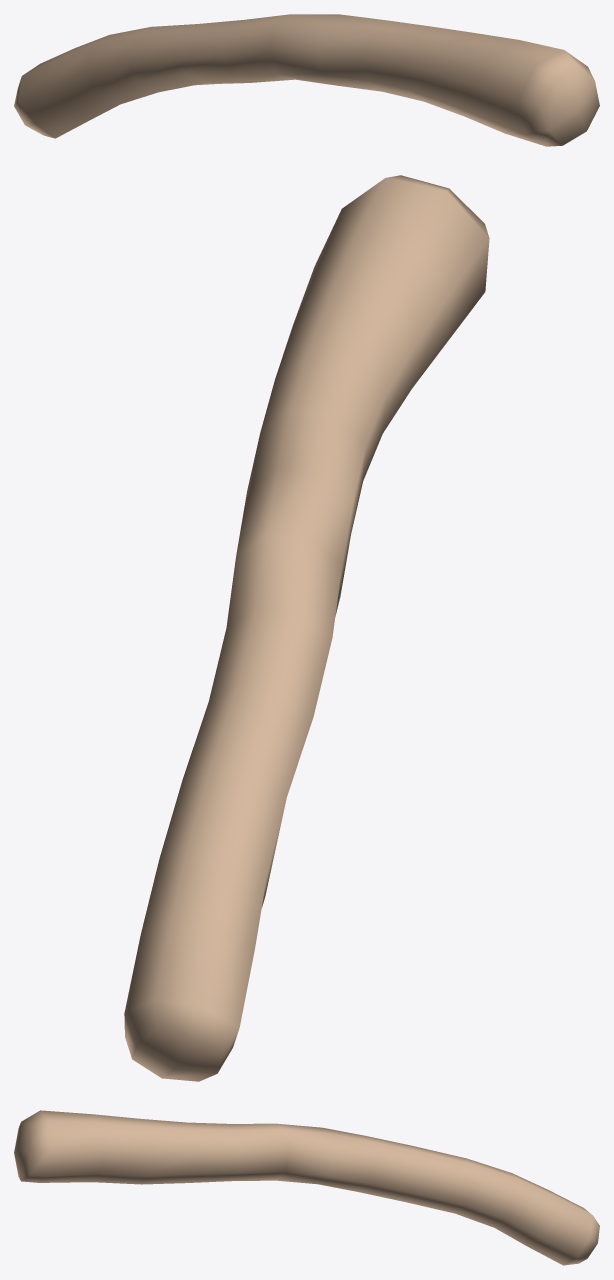
The picture shows the model from 3 angles, top to bottom: view 1: azimuth 30°, elevation 25°; view 2: azimuth 150°, elevation 25°; view 3: azimuth 270°, elevation 25°; orthographic projection. The views are drawn at different scales.
Visible parts, largest first — view 1: 左侧胫骨前肌腱鞘; view 2: 左侧胫骨前肌腱鞘; view 3: 左侧胫骨前肌腱鞘.
Boxes of the visible parts, x1=… form: 左侧胫骨前肌腱鞘: x1=14, y1=14, x2=599, y2=146; 左侧胫骨前肌腱鞘: x1=124, y1=175, x2=489, y2=1081; 左侧胫骨前肌腱鞘: x1=14, y1=1110, x2=599, y2=1265.
Bounding box in the file's own units: 0.0443 × 0.0447 × 0.1078.
